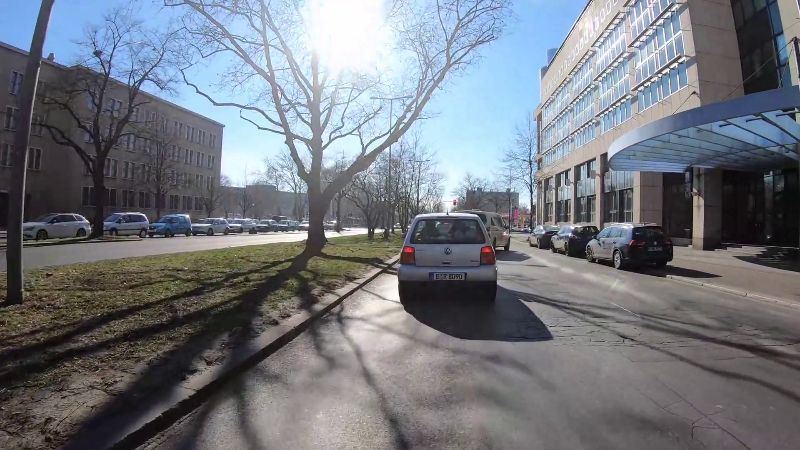Plate: (427, 271, 463, 281), (644, 245, 664, 253)
